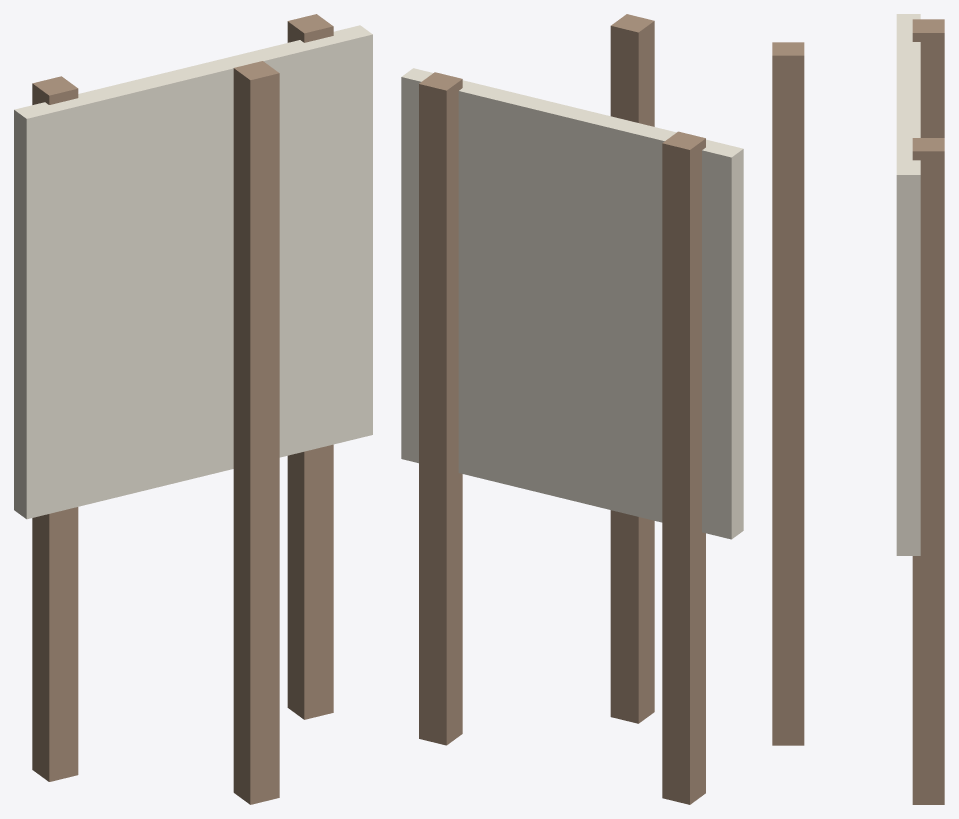
The model's file is easel_basic.glb.
The picture shows the model from 3 angles, left to right: view 1: azimuth 30°, elevation 25°; view 2: azimuth 150°, elevation 25°; view 3: azimuth 270°, elevation 25°; orthographic projection. The views are drawn at different scales.
Visible parts, largest first — view 1: part_03, part_02, part_00, part_01; view 2: part_03, part_00, part_01, part_02; view 3: part_02, part_01, part_03, part_00.
Boxes of the visible parts, x1=… form: part_03: x1=14, y1=25, x2=372, y2=519; part_02: x1=233, y1=61, x2=279, y2=804; part_00: x1=32, y1=76, x2=78, y2=781; part_01: x1=287, y1=14, x2=333, y2=719; part_03: x1=401, y1=68, x2=743, y2=539; part_00: x1=662, y1=131, x2=705, y2=804; part_01: x1=419, y1=72, x2=462, y2=745; part_02: x1=610, y1=14, x2=654, y2=723; part_02: x1=772, y1=42, x2=804, y2=745; part_01: x1=912, y1=138, x2=944, y2=804; part_03: x1=896, y1=14, x2=920, y2=555; part_00: x1=912, y1=19, x2=944, y2=137.
Bounding box in the file's own units: 0.95 × 1.9 × 0.43.
